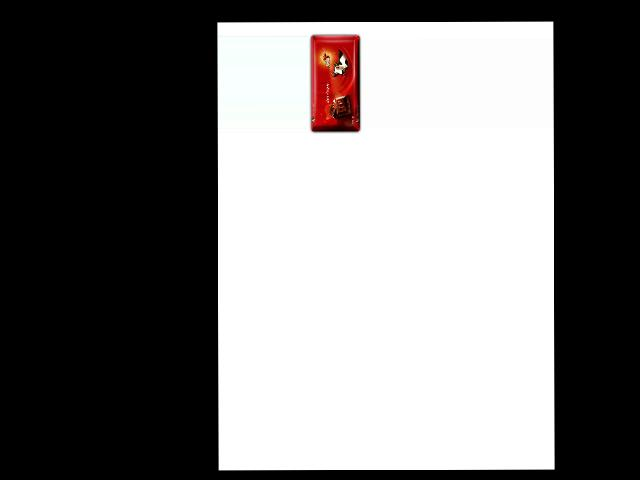chocolate: (310, 29, 363, 133)
